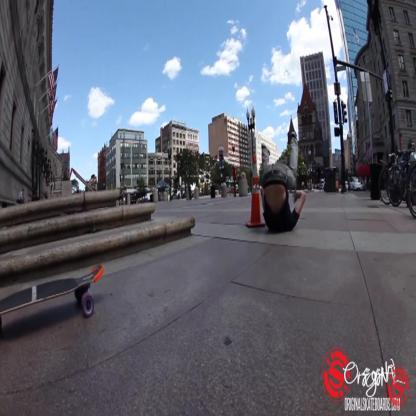Fall_Down: (258, 131, 306, 235)
